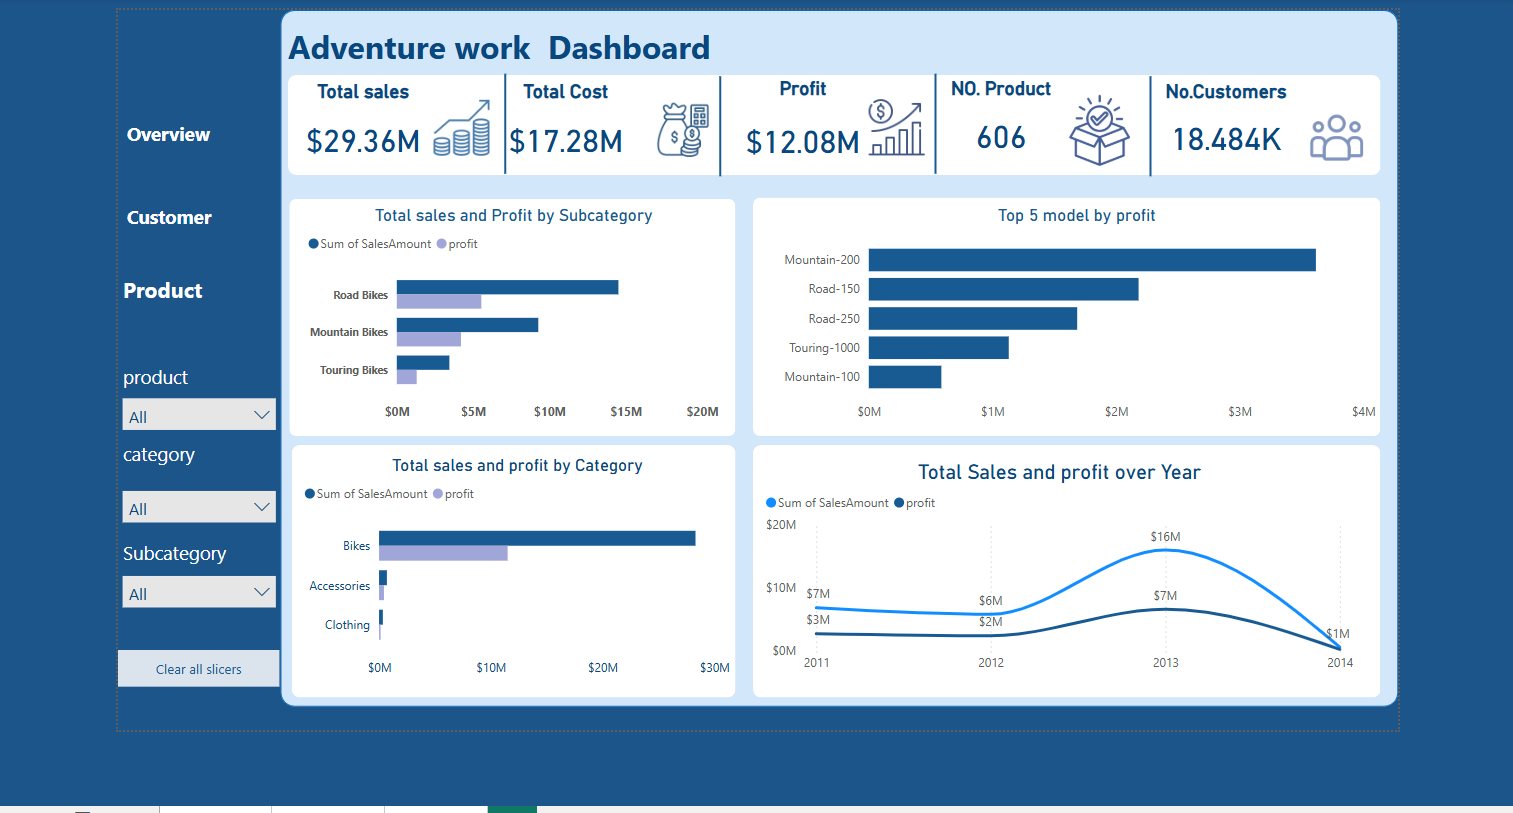

The dashboard page shown, as its layout file describes it:
{"tool":"powerbi","page":{"name":"overview ","canvas":[1280,720],"ordinal":0},"visuals":[{"type":"shape","box":[162.2,0,1117.8,696.7],"z":0},{"type":"textbox","box":[165,10,466.2,53.8],"z":1000},{"type":"shape","box":[635,187.5,627.5,238.8],"z":2000},{"type":"shape","box":[635,435,627.5,252.5],"z":3000},{"type":"lineChart","title":"Total Sales and profit  over Year","fields":{"Category":["DimDate.FullDateAlternateKey.Variation.Date Hierarchy.Year","DimDate.FullDateAlternateKey.Variation.Date Hierarchy.Quarter"],"Y":["Sum(FactInternetSales.SalesAmount)","FactInternetSales.profit"]},"box":[642.5,450,597.5,221.2],"z":4000},{"type":"textbox","box":[4.3,106.4,108.5,43.6],"z":5000},{"type":"textbox","box":[3.2,188.3,144.7,42.6],"z":6000},{"type":"textbox","box":[0,259.6,131.9,40.4],"z":7000},{"type":"slicer","title":"Category ","fields":{"Values":["DimProductCategory.EnglishProductCategoryName"]},"box":[0,475.7,162.6,55],"z":8000},{"type":"actionButton","box":[0,98.9,154.3,58.5],"z":9000},{"type":"actionButton","box":[0,180.3,154.4,58.6],"z":10000},{"type":"actionButton","box":[0,256.4,154.3,58.5],"z":11000},{"type":"textbox","box":[0,348.5,130.8,35.5],"z":12000},{"type":"textbox","box":[0,426.8,132.1,36.7],"z":13000},{"type":"textbox","box":[0,524.6,132.1,35.5],"z":14000},{"type":"slicer","title":"SubCategory ","fields":{"Values":["DimProductSubcategory.FrenchProductSubcategoryName"]},"box":[0,561.3,162.6,37.9],"z":15000},{"type":"slicer","title":"product ","fields":{"Values":["DimProduct.EnglishProductName"]},"box":[0,384,162.6,45.2],"z":16000},{"type":"shape","box":[170,65,1092.5,100],"z":17000},{"type":"card","title":"Total sales ","fields":{"Values":["Sum(FactInternetSales.SalesAmount)"]},"box":[173.6,69.7,143.1,95.4],"z":18000},{"type":"shape","box":[171.2,188.3,446.2,237.5],"z":19000},{"type":"card","title":"Total Cost ","fields":{"Values":["Sum(FactInternetSales.TotalProductCost)"]},"box":[379.1,69.7,138.2,95.4],"z":20000},{"type":"clusteredBarChart","title":"Total sales and Profit  by  Subcategory","fields":{"Y":["Sum(FactInternetSales.SalesAmount)","FactInternetSales.profit"],"Category":["DimProductSubcategory.EnglishProductSubcategoryName"]},"box":[185,195,421.2,225],"z":21000},{"type":"shape","box":[173.8,435,443.8,252.5],"z":22000},{"type":"card","title":"Profit ","fields":{"Values":["FactInternetSales.profit"]},"box":[591.2,67.5,187.5,102.5],"z":23000},{"type":"card","title":"NO. Product ","fields":{"Values":["CountNonNull(DimProduct.ProductKey)"]},"box":[787.5,67.5,191.2,93.8],"z":24000},{"type":"card","title":"No.Customers ","fields":{"Values":["Count(DimCustomer.CustomerKey)"]},"box":[1012.5,70,191.2,91.2],"z":25000},{"type":"shape","box":[376.6,63.6,22,100.3],"z":26000},{"type":"shape","box":[591.3,66,22,100.3],"z":27000},{"type":"shape","box":[806.1,63.8,22.5,100],"z":28000},{"type":"shape","box":[1021.3,66.2,22.5,100],"z":29000},{"type":"clusteredBarChart","title":"Top 5 model by profit ","fields":{"Category":["DimProduct.ModelName"],"Y":["FactInternetSales.profit"]},"box":[655,195,607.5,225],"z":30000},{"type":"clusteredBarChart","title":"Total sales and profit   by Category","fields":{"Category":["DimProductCategory.EnglishProductCategoryName"],"Y":["Sum(FactInternetSales.SalesAmount)","FactInternetSales.profit"]},"box":[181.2,445,436.2,231.2],"z":31000},{"type":"image","box":[941.2,80,81.2,81.2],"z":32000},{"type":"image","box":[524.6,86.8,80.7,67.3],"z":33000},{"type":"image","box":[737.5,82.5,82.5,70],"z":34000},{"type":"image","box":[1187.4,90.5,62.4,74.6],"z":35000},{"type":"actionButton","box":[0,639.5,161.4,36.7],"z":36000},{"type":"image","box":[306.9,84.4,72.1,66],"z":37000}]}

Visuals, with their boxes on the page's 1280x720 design canvas (x1, y1, x2, y2). These are canvas units, not pixel positions in the 1513x813 screenshot, which may show the page scaled, cropped or inside an application window:
shape: {"left": 162, "top": 0, "right": 1280, "bottom": 697}
textbox: {"left": 165, "top": 10, "right": 631, "bottom": 64}
shape: {"left": 635, "top": 188, "right": 1262, "bottom": 426}
shape: {"left": 635, "top": 435, "right": 1262, "bottom": 688}
"Total Sales and profit  over Year" lineChart: {"left": 642, "top": 450, "right": 1240, "bottom": 671}
textbox: {"left": 4, "top": 106, "right": 113, "bottom": 150}
textbox: {"left": 3, "top": 188, "right": 148, "bottom": 231}
textbox: {"left": 0, "top": 260, "right": 132, "bottom": 300}
"Category " slicer: {"left": 0, "top": 476, "right": 163, "bottom": 531}
actionButton: {"left": 0, "top": 99, "right": 154, "bottom": 157}
actionButton: {"left": 0, "top": 180, "right": 154, "bottom": 239}
actionButton: {"left": 0, "top": 256, "right": 154, "bottom": 315}
textbox: {"left": 0, "top": 348, "right": 131, "bottom": 384}
textbox: {"left": 0, "top": 427, "right": 132, "bottom": 464}
textbox: {"left": 0, "top": 525, "right": 132, "bottom": 560}
"SubCategory " slicer: {"left": 0, "top": 561, "right": 163, "bottom": 599}
"product " slicer: {"left": 0, "top": 384, "right": 163, "bottom": 429}
shape: {"left": 170, "top": 65, "right": 1262, "bottom": 165}
"Total sales " card: {"left": 174, "top": 70, "right": 317, "bottom": 165}
shape: {"left": 171, "top": 188, "right": 617, "bottom": 426}
"Total Cost " card: {"left": 379, "top": 70, "right": 517, "bottom": 165}
"Total sales and Profit  by  Subcategory" clusteredBarChart: {"left": 185, "top": 195, "right": 606, "bottom": 420}
shape: {"left": 174, "top": 435, "right": 618, "bottom": 688}
"Profit " card: {"left": 591, "top": 68, "right": 779, "bottom": 170}
"NO. Product " card: {"left": 788, "top": 68, "right": 979, "bottom": 161}
"No.Customers " card: {"left": 1012, "top": 70, "right": 1204, "bottom": 161}
shape: {"left": 377, "top": 64, "right": 399, "bottom": 164}
shape: {"left": 591, "top": 66, "right": 613, "bottom": 166}
shape: {"left": 806, "top": 64, "right": 829, "bottom": 164}
shape: {"left": 1021, "top": 66, "right": 1044, "bottom": 166}
"Top 5 model by profit " clusteredBarChart: {"left": 655, "top": 195, "right": 1262, "bottom": 420}
"Total sales and profit   by Category" clusteredBarChart: {"left": 181, "top": 445, "right": 617, "bottom": 676}
image: {"left": 941, "top": 80, "right": 1022, "bottom": 161}
image: {"left": 525, "top": 87, "right": 605, "bottom": 154}
image: {"left": 738, "top": 82, "right": 820, "bottom": 152}
image: {"left": 1187, "top": 90, "right": 1250, "bottom": 165}
actionButton: {"left": 0, "top": 640, "right": 161, "bottom": 676}
image: {"left": 307, "top": 84, "right": 379, "bottom": 150}
